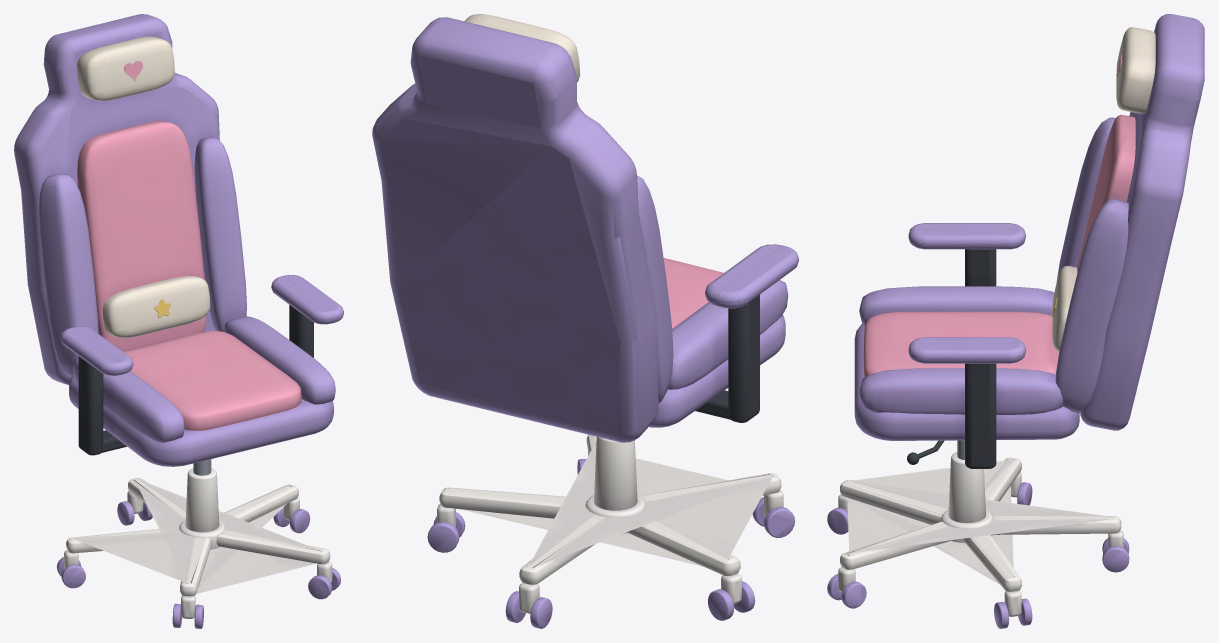
File: gaming-chair.glb
The picture shows the model from 3 angles, left to right: view 1: azimuth 30°, elevation 25°; view 2: azimuth 150°, elevation 25°; view 3: azimuth 270°, elevation 25°; orthographic projection. The views are drawn at different scales.
Visible parts, largest first — view 1: gaming-chair_seat, gaming-chair_body; view 2: gaming-chair_seat, gaming-chair_body; view 3: gaming-chair_seat, gaming-chair_body.
Part boxes in pixels (x1,y1,x2,y2): gaming-chair_seat: (14,14,343,475); gaming-chair_body: (56,468,340,628); gaming-chair_seat: (372,14,798,442); gaming-chair_body: (427,434,795,628); gaming-chair_seat: (854,14,1204,468); gaming-chair_body: (827,452,1129,628).
Size of the model in its own units: 0.705 by 1.29 by 0.8382.
2 materials, 2 textured.
